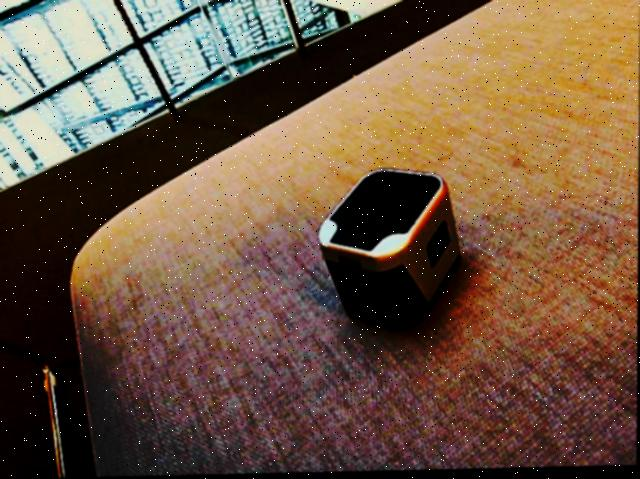adapter: (317, 168, 462, 334)
